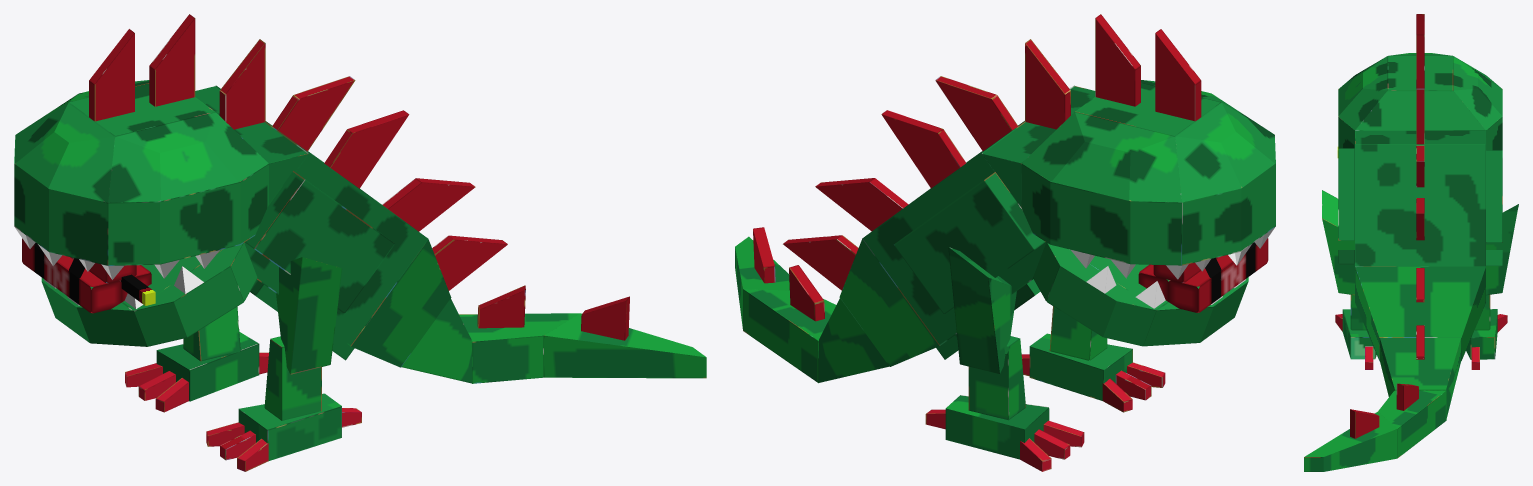
Rendered from enemigo1.fbx.
The picture shows the model from 3 angles, left to right: view 1: azimuth 30°, elevation 25°; view 2: azimuth 150°, elevation 25°; view 3: azimuth 270°, elevation 25°; orthographic projection. The views are drawn at different scales.
Parts seen in each view (by area): view 1: cabeza, torso, boca3, cola final, cola1, boca1, FRONT LEGS, PuasEspalda, FRONT_LEGS2, group2, TNT; view 2: cabeza, torso, boca3, cola1, boca1, FRONT_LEGS2, PuasEspalda, cola final, FRONT LEGS, group, TNT; view 3: torso, cola1, cabeza, cola final, group2, FRONT_LEGS2, FRONT LEGS, group, PuasEspalda, boca3.
Boxes of the visible parts, x1,y1,x2,y2 form: cabeza: (15, 14, 268, 202); torso: (195, 85, 428, 360); boca3: (14, 140, 268, 265); cola final: (459, 285, 706, 383); cola1: (351, 178, 507, 383); boca1: (41, 243, 257, 346); FRONT LEGS: (206, 336, 361, 471); PuasEspalda: (219, 39, 409, 188); FRONT_LEGS2: (125, 306, 268, 412); group2: (276, 257, 342, 374); TNT: (22, 238, 155, 313); cabeza: (1022, 14, 1275, 202); torso: (862, 85, 1095, 359); boca3: (1021, 143, 1275, 265); cola1: (783, 178, 939, 382); boca1: (1033, 242, 1248, 346); FRONT_LEGS2: (925, 336, 1084, 471); PuasEspalda: (881, 39, 1070, 188); cola final: (735, 227, 836, 383); FRONT LEGS: (1021, 306, 1165, 412); group: (948, 247, 1016, 373); TNT: (1138, 238, 1268, 312); torso: (1338, 130, 1502, 266); cola1: (1355, 266, 1485, 417); cabeza: (1338, 14, 1502, 130); cola final: (1304, 383, 1446, 471); group2: (1322, 190, 1354, 295); FRONT_LEGS2: (1466, 295, 1507, 369); FRONT LEGS: (1335, 295, 1376, 369); group: (1486, 204, 1518, 295); PuasEspalda: (1416, 88, 1424, 240); boca3: (1338, 79, 1502, 150).
Bounding box in the file's own units: 369 × 249 × 164.
Materials: 3 (3 with a texture image).
